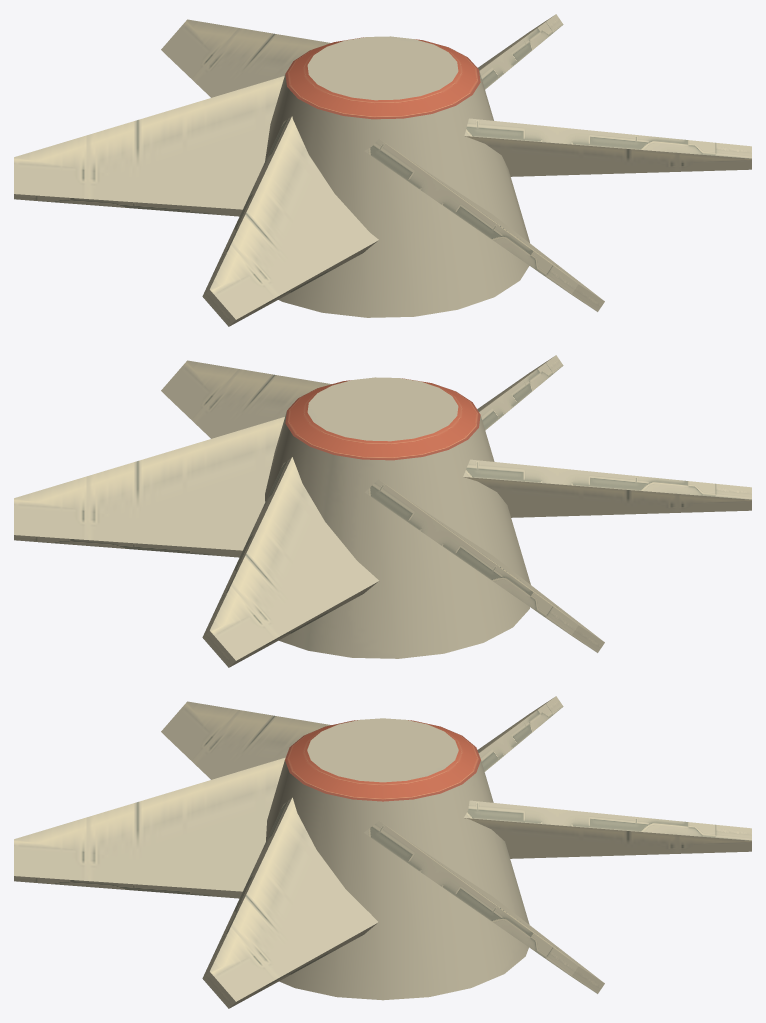
The model's file is Rotor.gltf.
3 views of the same model, one above another, from view 1: azimuth 30°, elevation 25°; view 2: azimuth 150°, elevation 25°; view 3: azimuth 270°, elevation 25° (orthographic).
Visible parts, largest first — view 1: Prop_Fan_Small_Propeller; view 2: Prop_Fan_Small_Propeller; view 3: Prop_Fan_Small_Propeller.
Boxes of the visible parts, x1=… form: Prop_Fan_Small_Propeller: x1=14, y1=14, x2=751, y2=326; Prop_Fan_Small_Propeller: x1=14, y1=355, x2=751, y2=667; Prop_Fan_Small_Propeller: x1=14, y1=696, x2=751, y2=1008.
Size of the model in its own units: 1.06 by 0.3203 by 1.15.
2 materials, 2 textured.
